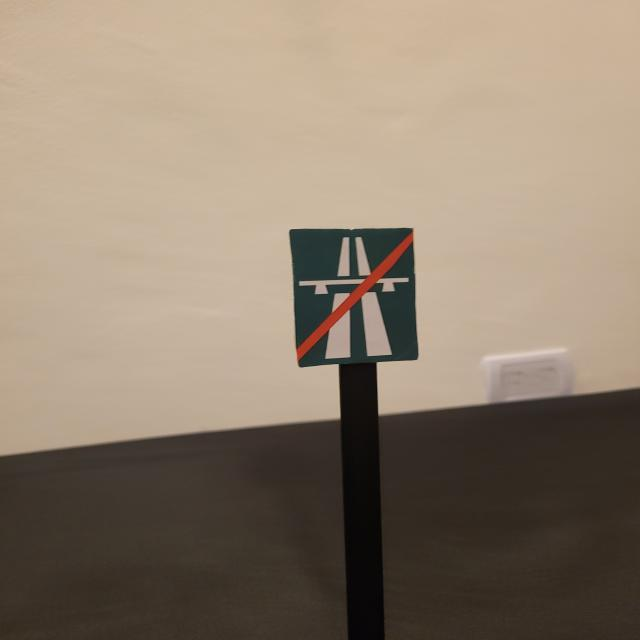highway_exit: (287, 225, 421, 372)
